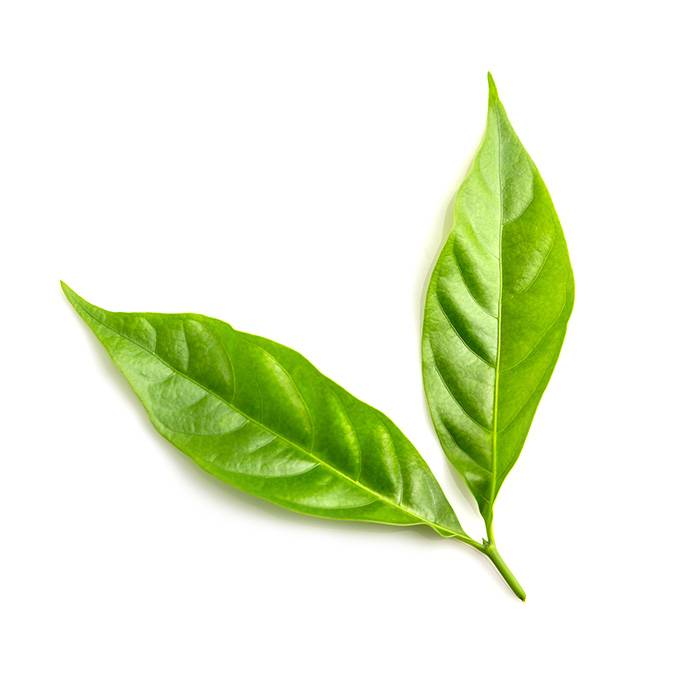healthy: (45, 277, 404, 574), (435, 113, 617, 502)
